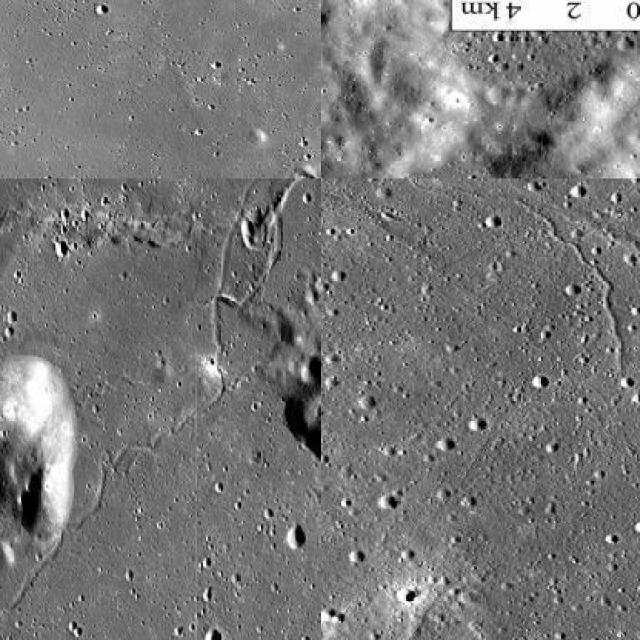rille: (0, 178, 274, 638), (320, 179, 638, 363), (516, 197, 638, 638), (320, 6, 609, 177), (534, 178, 638, 329), (218, 203, 284, 312)
